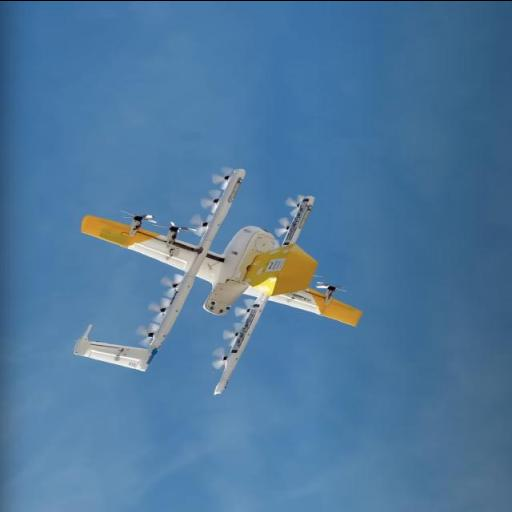uav: (64, 162, 366, 396)
